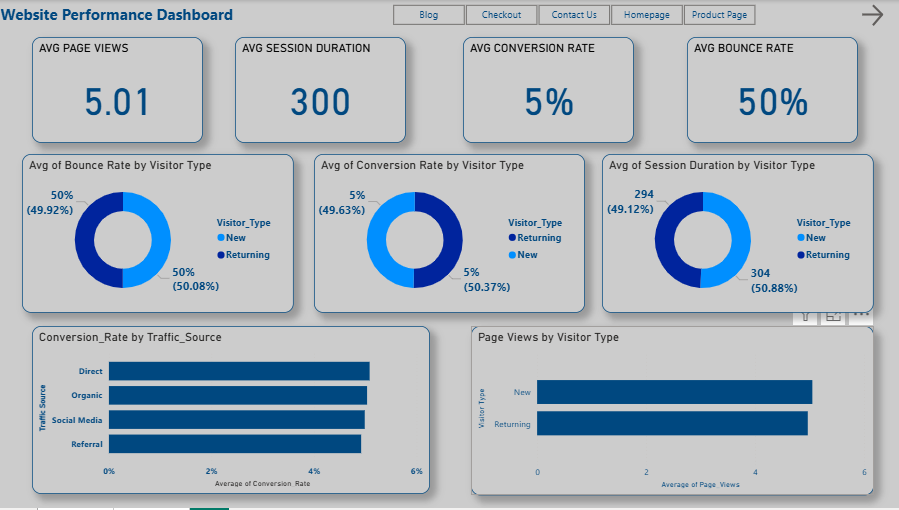

What the dashboard file says about the page in this screenshot:
{"tool":"powerbi","page":{"name":"Page 1","canvas":[1280,720],"ordinal":0},"visuals":[{"type":"textbox","box":[0,0,1280.2,41.8],"z":0},{"type":"donutChart","title":"Avg of Bounce Rate by Visitor Type","fields":{"Category":["website_performance_analytics.Visitor_Type"],"Y":["Avg(website_performance_analytics.Bounce_Rate)"]},"box":[36,218.9,385,224.6],"z":0},{"type":"slicer","fields":{"Values":["website_performance_analytics.Exit_Pages"]},"box":[535.7,0,563,41.8],"z":1000},{"type":"card","title":"AVG PAGE VIEWS","fields":{"Values":["Avg(website_performance_analytics.Page_Views)"]},"box":[49.3,51.8,241.9,149.8],"z":1000},{"type":"group","id":"g1","title":"Group 1","box":[337,51.8,882.7,149.8],"z":2000},{"type":"clusteredBarChart","title":" Conversion_Rate by Traffic_Source","fields":{"Category":["website_performance_analytics.Traffic_Source"],"Y":["Avg(website_performance_analytics.Conversion_Rate)"]},"box":[49.6,462,564.1,238.1],"z":2000},{"type":"donutChart","title":"Avg of Conversion Rate by Visitor Type","fields":{"Category":["website_performance_analytics.Visitor_Type"],"Y":["Avg(website_performance_analytics.Conversion_Rate)"]},"box":[449.1,217.6,384.5,224.6],"z":3000},{"type":"card","title":"AVG SESSION DURATION","fields":{"Values":["Avg(website_performance_analytics.Session_Duration)"]},"box":[337,51.8,241.9,149.8],"z":4000,"group":"g1"},{"type":"actionButton","box":[1219.7,1.4,60.5,40.3],"z":4000},{"type":"clusteredBarChart","title":"Page Views by Visitor Type","fields":{"Category":["website_performance_analytics.Visitor_Type"],"Y":["Avg(website_performance_analytics.Page_Views)"]},"box":[671.8,462,571.2,239.5],"z":4000},{"type":"donutChart","title":"Avg of Session Duration by Visitor Type","fields":{"Category":["website_performance_analytics.Visitor_Type"],"Y":["Avg(website_performance_analytics.Session_Duration)"]},"box":[856.8,218.9,385,224.6],"z":5000},{"type":"card","title":"AVG CONVERSION RATE","fields":{"Values":["Avg(website_performance_analytics.Conversion_Rate)"]},"box":[659.6,51.8,241.9,149.8],"z":6000,"group":"g1"},{"type":"card","title":"AVG BOUNCE RATE","fields":{"Values":["Avg(website_performance_analytics.Bounce_Rate)"]},"box":[977.8,51.8,241.9,149.8],"z":7000,"group":"g1"}]}

Visuals, with their boxes in screenshot pixels (x1, y1, x2, y2), scaled from the page's 1280x720 canvas onto the 899x510 screenshot:
textbox: box=[0, 0, 898, 30]
"Avg of Bounce Rate by Visitor Type" donutChart: box=[25, 155, 296, 314]
slicer - website_performance_analytics.Exit_Pages: box=[376, 0, 772, 30]
"AVG PAGE VIEWS" card: box=[35, 37, 205, 143]
"Group 1" group: box=[237, 37, 857, 143]
" Conversion_Rate by Traffic_Source" clusteredBarChart: box=[35, 327, 431, 496]
"Avg of Conversion Rate by Visitor Type" donutChart: box=[315, 154, 585, 313]
"AVG SESSION DURATION" card: box=[237, 37, 407, 143]
actionButton: box=[857, 1, 898, 30]
"Page Views by Visitor Type" clusteredBarChart: box=[472, 327, 873, 497]
"Avg of Session Duration by Visitor Type" donutChart: box=[602, 155, 872, 314]
"AVG CONVERSION RATE" card: box=[463, 37, 633, 143]
"AVG BOUNCE RATE" card: box=[687, 37, 857, 143]
